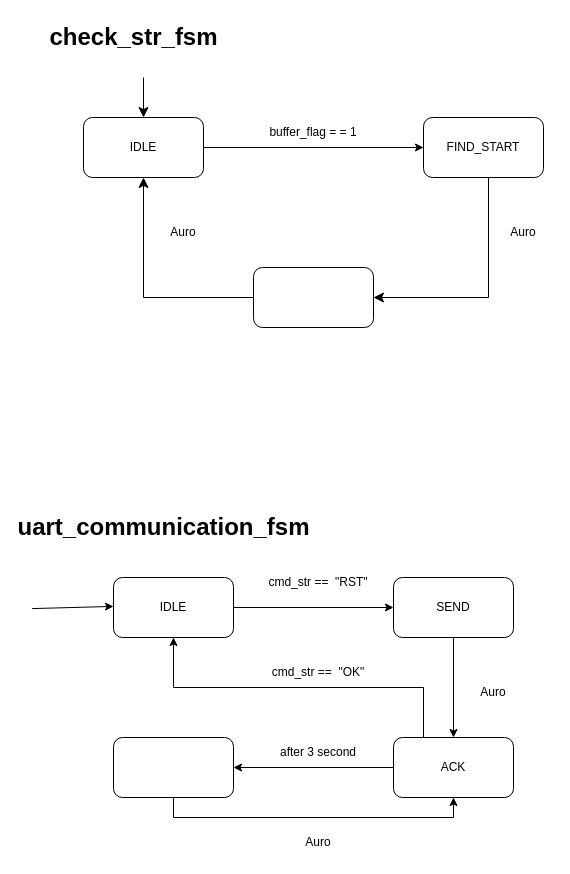
Some shapes in this 570 by 874 pixel diagram are drawn without their labels. Here are the shapes that lost their labels. From the top down, the centre of each, then its label:
At (x=313, y=297): "FIND_END".
At (x=173, y=767): "RESEND".
